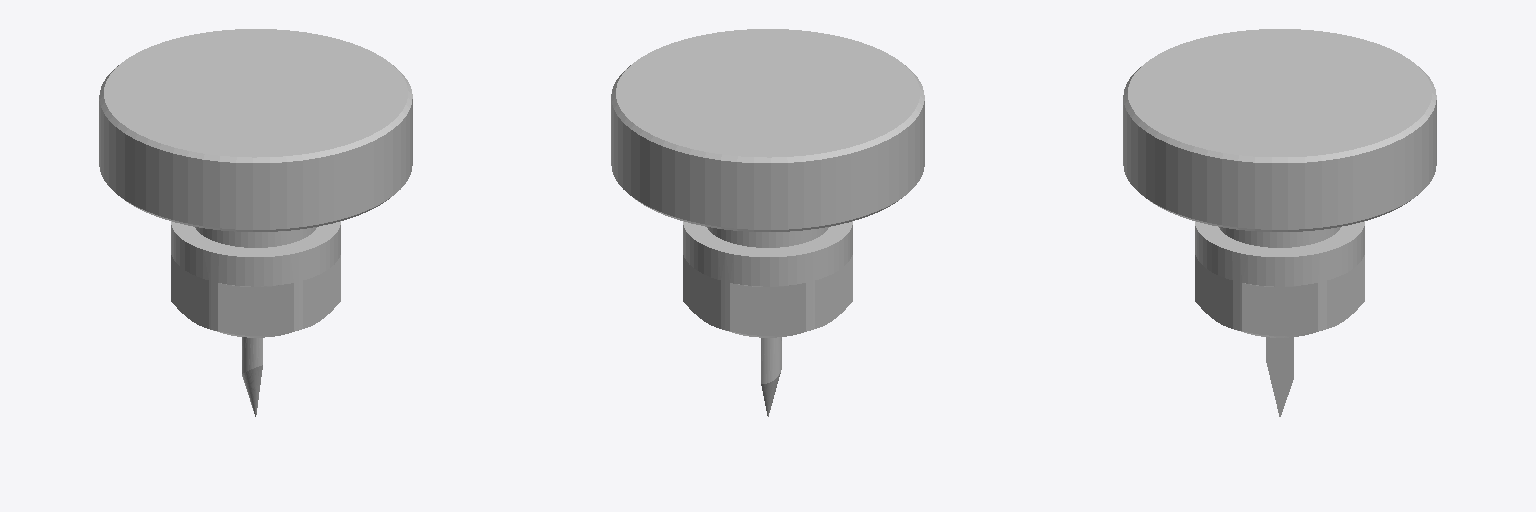
The model's file is cnc-bit.obj.
3 views of the same model, side by side, from view 1: azimuth 30°, elevation 25°; view 2: azimuth 150°, elevation 25°; view 3: azimuth 270°, elevation 25° (orthographic).
Visible parts, largest first — view 1: mesh74, mesh76, mesh32, mesh38, mesh39, mesh75, mesh3, mesh37, mesh40, mesh44, mesh71, mesh65 (+2 smaller); view 2: mesh74, mesh76, mesh32, mesh38, mesh41, mesh75, mesh3, mesh37, mesh40, mesh42, mesh71, mesh65 (+1 smaller); view 3: mesh74, mesh76, mesh32, mesh38, mesh43, mesh75, mesh3, mesh37, mesh42, mesh44, mesh55, mesh71 (+1 smaller).
Boxes of the visible parts, <box> form: mesh74: <box>99,99,412,229</box>; mesh76: <box>104,29,407,157</box>; mesh32: <box>144,48,368,134</box>; mesh38: <box>171,225,340,330</box>; mesh39: <box>218,283,293,335</box>; mesh75: <box>99,65,412,162</box>; mesh3: <box>201,94,306,134</box>; mesh37: <box>171,221,340,256</box>; mesh40: <box>171,255,208,328</box>; mesh44: <box>303,255,340,328</box>; mesh71: <box>195,227,316,247</box>; mesh65: <box>202,69,276,88</box>; mesh74: <box>611,99,924,229</box>; mesh76: <box>616,29,919,157</box>; mesh32: <box>652,50,876,136</box>; mesh38: <box>683,225,852,330</box>; mesh41: <box>730,283,805,335</box>; mesh75: <box>611,65,924,162</box>; mesh3: <box>772,53,852,111</box>; mesh37: <box>683,221,852,256</box>; mesh40: <box>815,255,852,328</box>; mesh42: <box>683,255,720,328</box>; mesh71: <box>707,227,828,247</box>; mesh65: <box>710,96,783,115</box>; mesh74: <box>1123,100,1436,229</box>; mesh76: <box>1128,29,1431,156</box>; mesh32: <box>1169,51,1395,136</box>; mesh38: <box>1195,226,1364,330</box>; mesh43: <box>1242,283,1317,335</box>; mesh75: <box>1123,67,1436,162</box>; mesh3: <box>1170,72,1303,90</box>; mesh37: <box>1195,221,1364,256</box>; mesh42: <box>1327,255,1364,328</box>; mesh44: <box>1195,255,1232,328</box>; mesh55: <box>1266,337,1293,416</box>; mesh71: <box>1219,227,1340,247</box>.
Size of the model in its own units: 0.0349 by 0.0401 by 0.035.